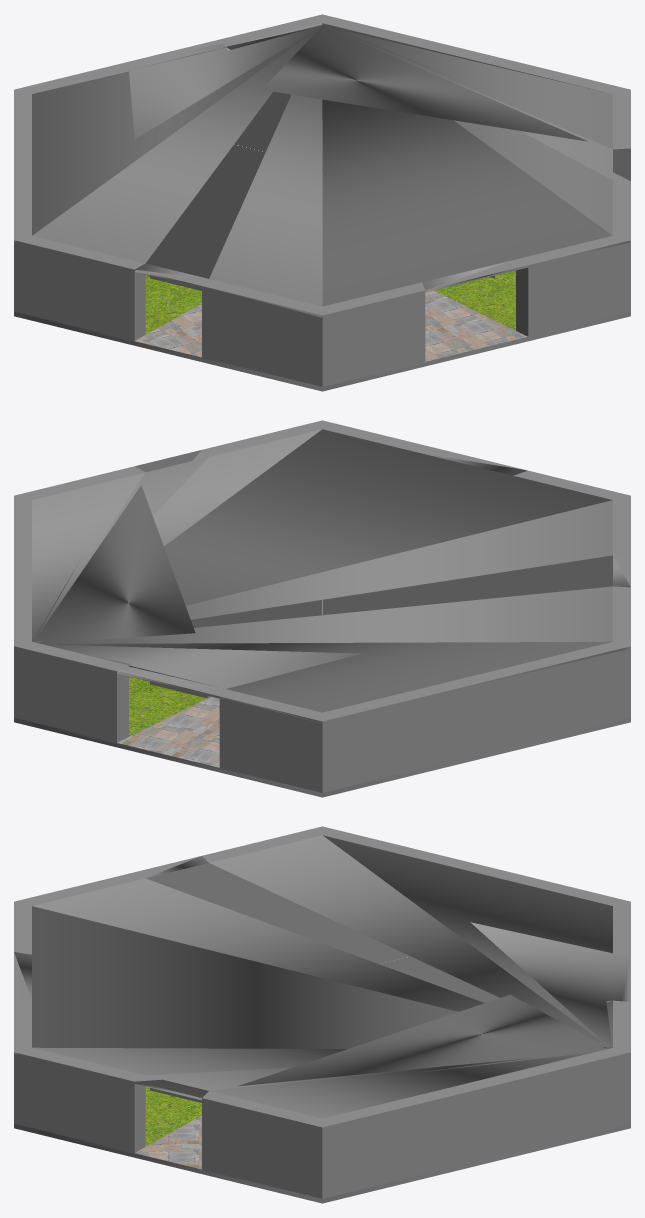
3 renders of one model, top to bottom at view 1: azimuth 30°, elevation 25°; view 2: azimuth 150°, elevation 25°; view 3: azimuth 270°, elevation 25°, orthographic.
Visible parts, largest first — view 1: Cylinder026; view 2: Cylinder026; view 3: Cylinder026.
Boxes of the visible parts, box(x1,y1,x2,y2) form: Cylinder026: box(14, 14, 630, 391); Cylinder026: box(14, 420, 630, 797); Cylinder026: box(14, 826, 630, 1203).
Bounding box in the file's own units: 140 × 16.5 × 121.
Materials: 5 (2 with a texture image).
